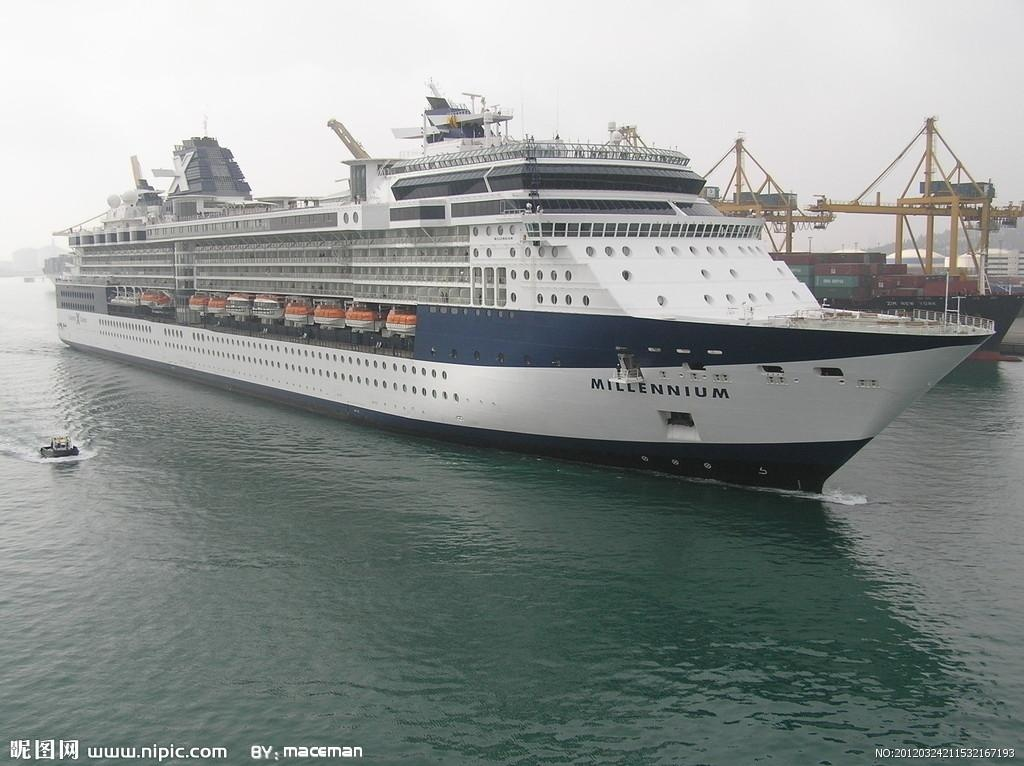youlun: (44, 71, 995, 493)
